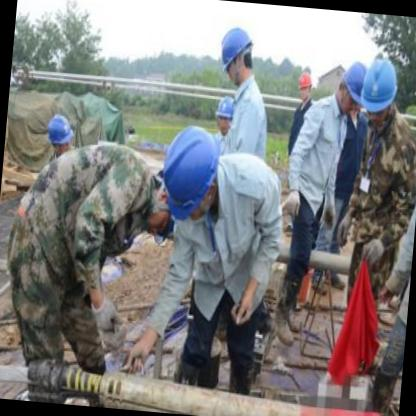helmet: (154, 120, 227, 230), (353, 50, 400, 126), (215, 22, 260, 91), (338, 59, 373, 121), (44, 113, 77, 160), (212, 96, 241, 144), (296, 65, 316, 106), (413, 56, 416, 116)
